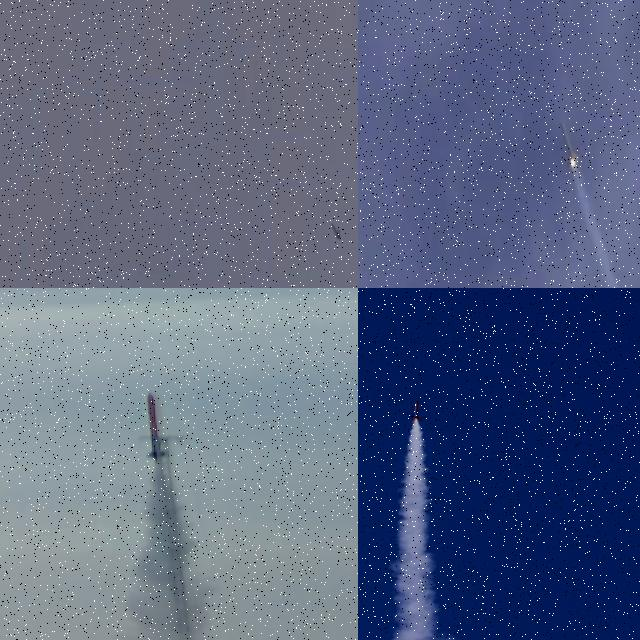Rocket: (146, 393, 165, 462), (561, 123, 579, 166), (409, 401, 427, 423), (329, 222, 341, 240)
